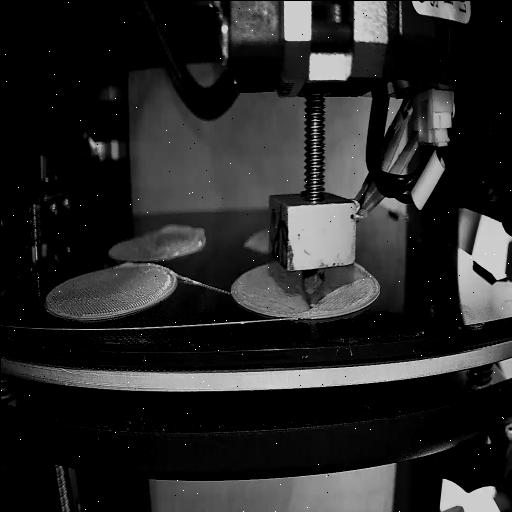over_extrusion: (156, 220, 206, 242), (316, 282, 352, 306), (117, 259, 137, 269), (352, 256, 364, 270)
